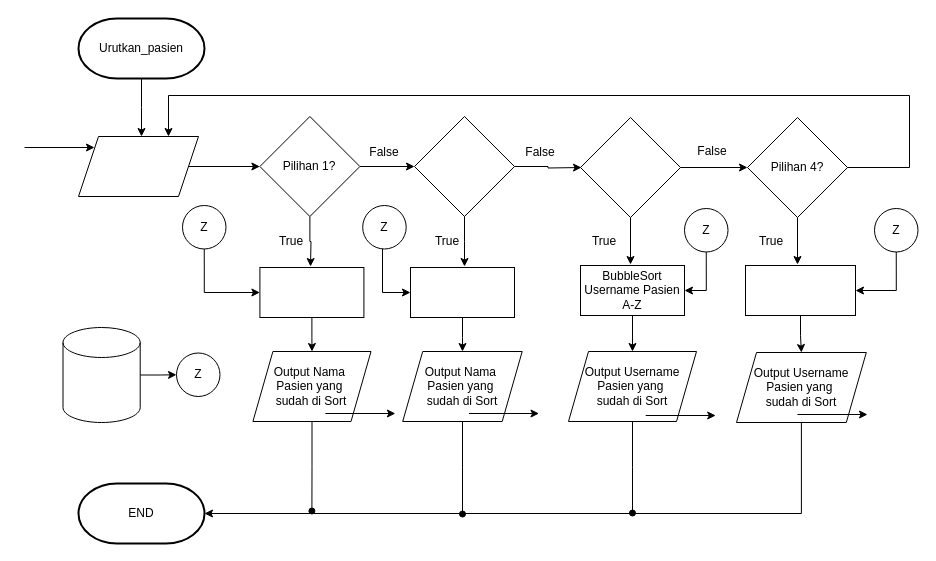
Image size: 936x561. Some labels were removed from this diagram. The centre of each missing label's shape, as x and y in pixels:
"BubbleSort Nama Pasien A-Z" belongs at [311,292].
"BubbleSort Nama Pasien Z-A" belongs at [462,292].
"BubbleSort Username Pasien Z-A" belongs at [800,290].
"Data_Pasien" belongs at [101,374].
"Input Pilihan" belongs at [138,166].
"Pilihan 2?" belongs at [464,166].
"Pilihan 3?" belongs at [630,167].
